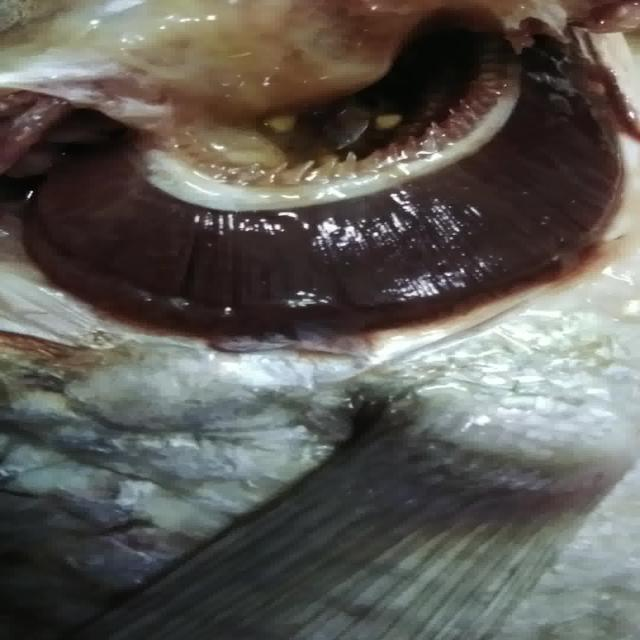Non-Fresh: (28, 12, 614, 350)
